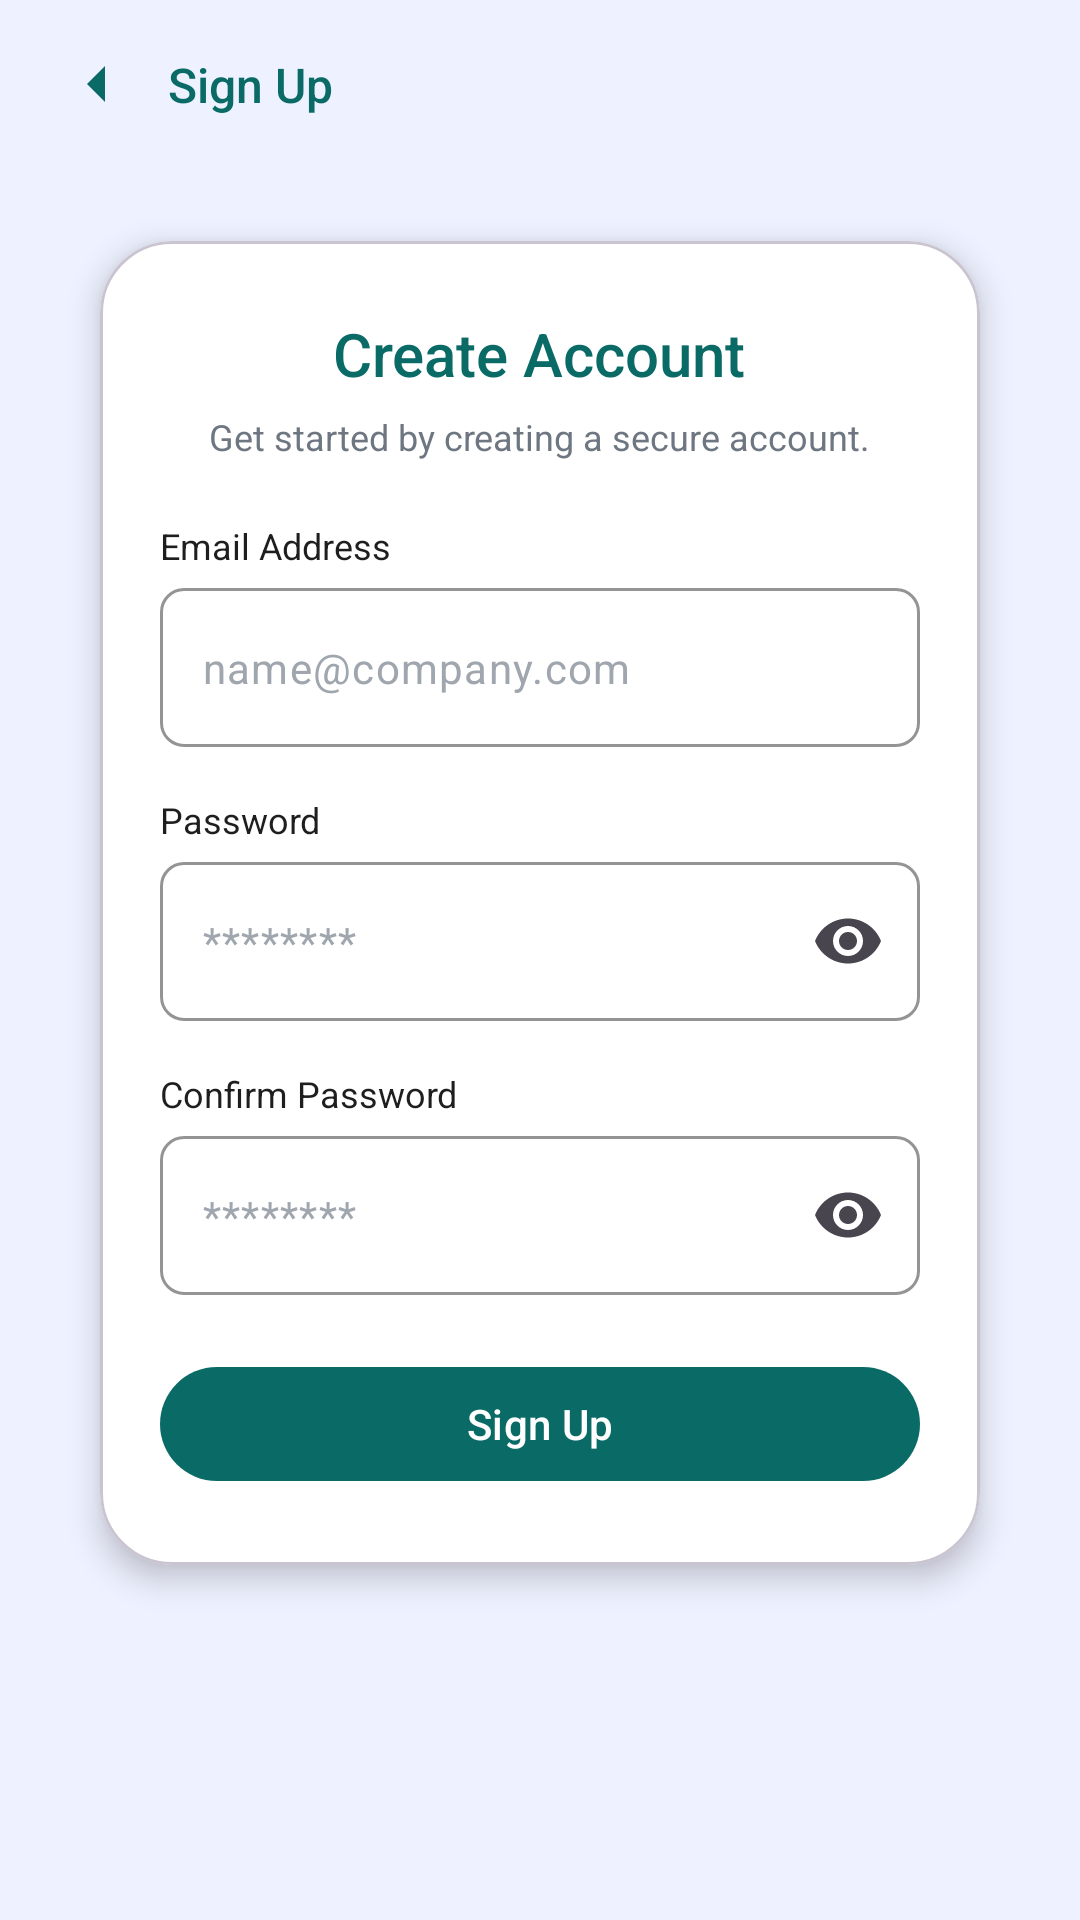

Icon bounding boxes for this 1080px×1920px phone screenshot, format (x1, y1, x2, y2):
Back: (87, 66, 105, 102)
